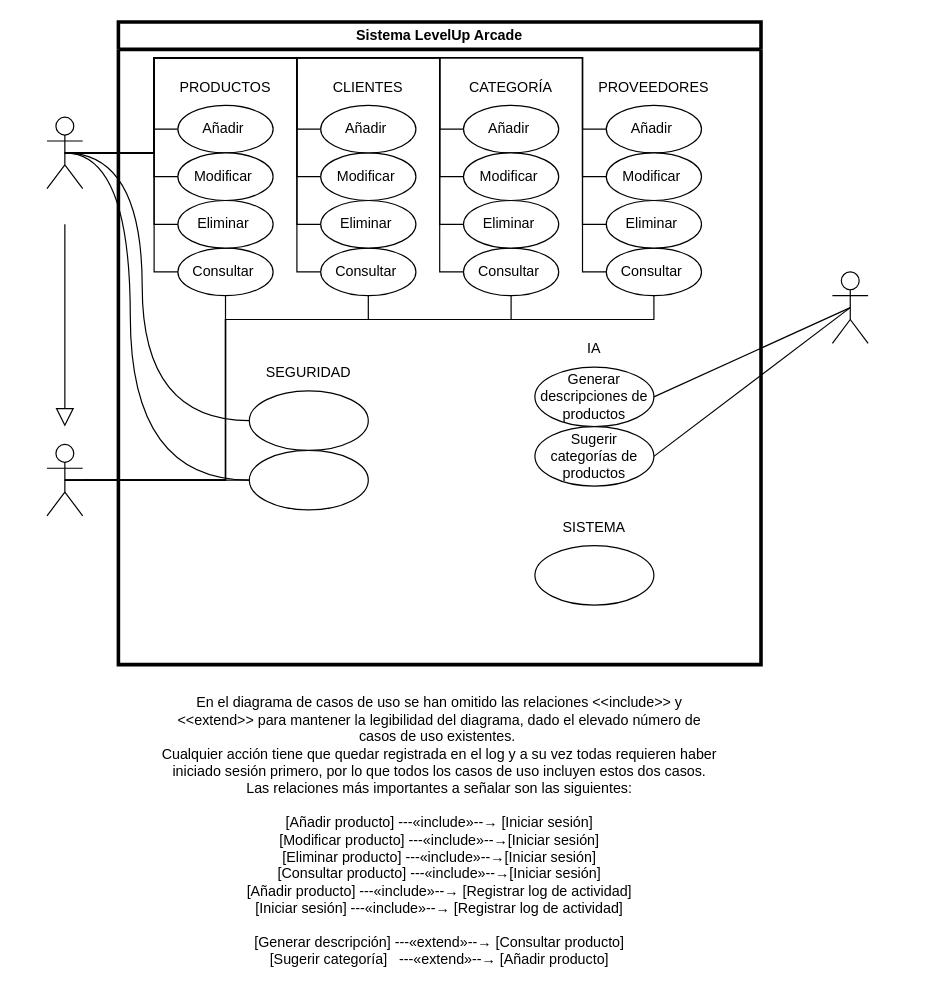
This 929x1007 diagram has some shape labels left out. Each missing label, with the box of its shape:
<<system>> OpenRouter - LLM: (831, 271, 868, 343)
Administrador: (46, 116, 83, 189)
Empleado: (46, 443, 83, 516)
Gestionar usuarios: (248, 390, 368, 450)
Iniciar sesión: (248, 449, 368, 510)
Registar log de actividad: (534, 544, 654, 605)
